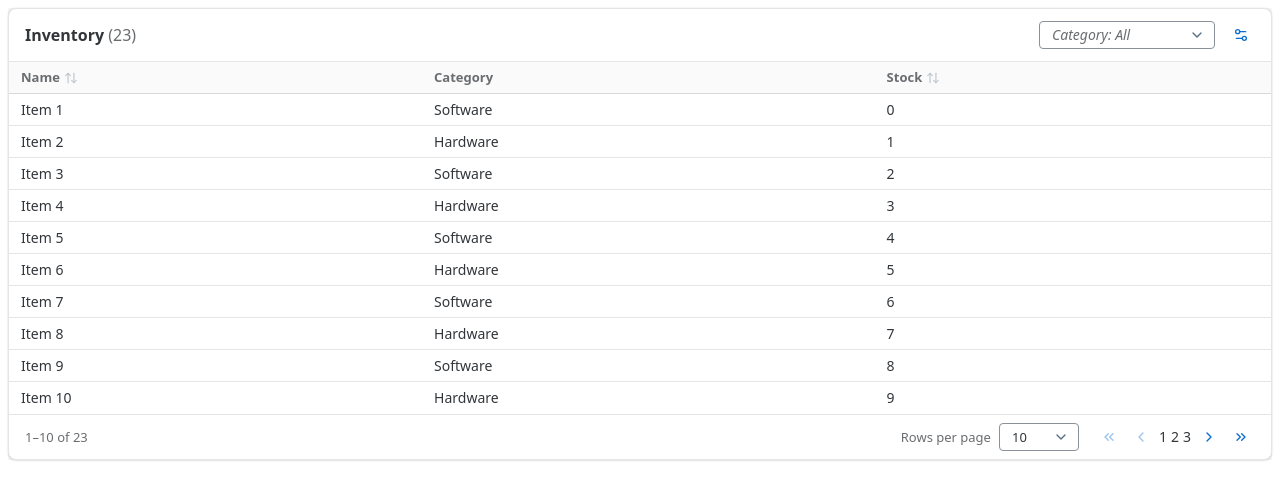
Test: DataGrid › hides columns from view settings
The image size is (1280, 478).
Step 1. Click the button named "View settings" → point(1241, 35), box [1227, 21, 1255, 49]
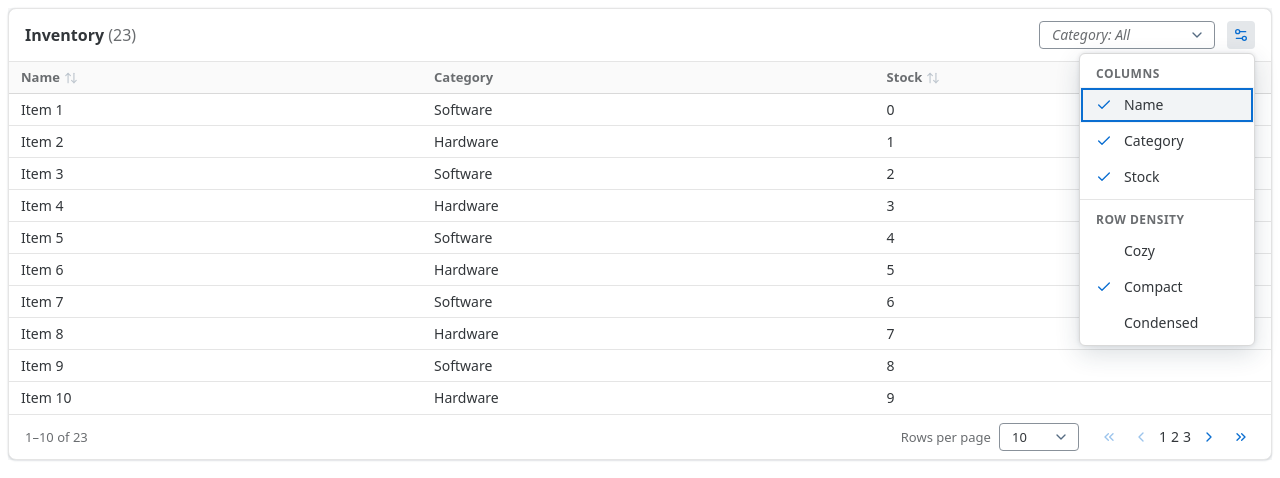
Step 2. Click the menu item "Stock" → point(1128, 176), box [1096, 167, 1159, 186]
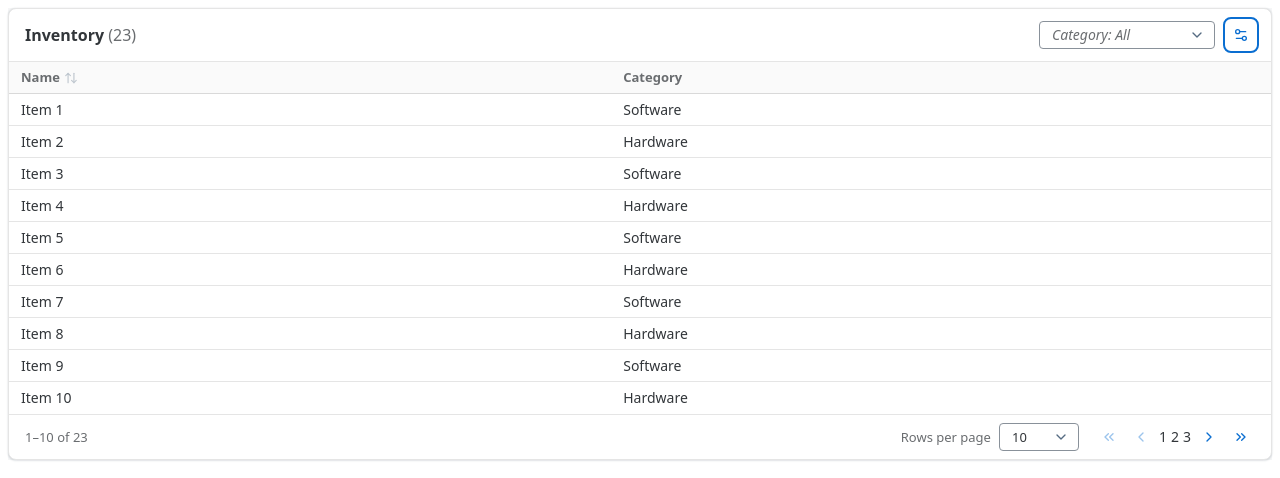
Result: the button "Stock" is gone
